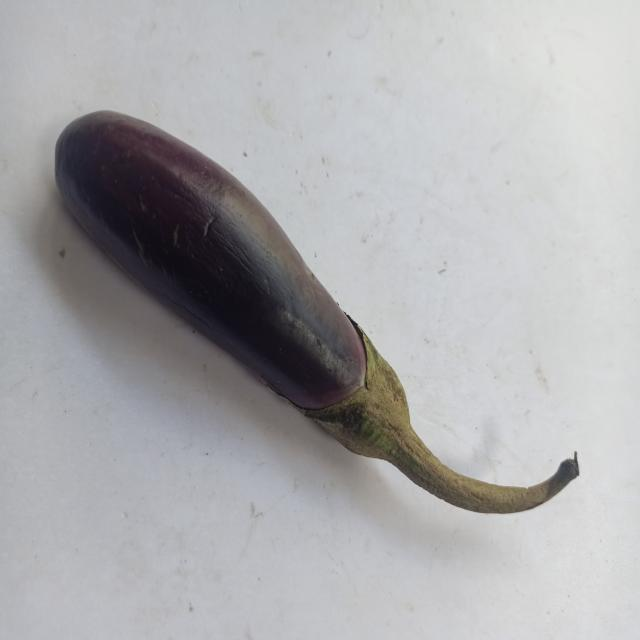Brinjal: (42, 80, 640, 538)
